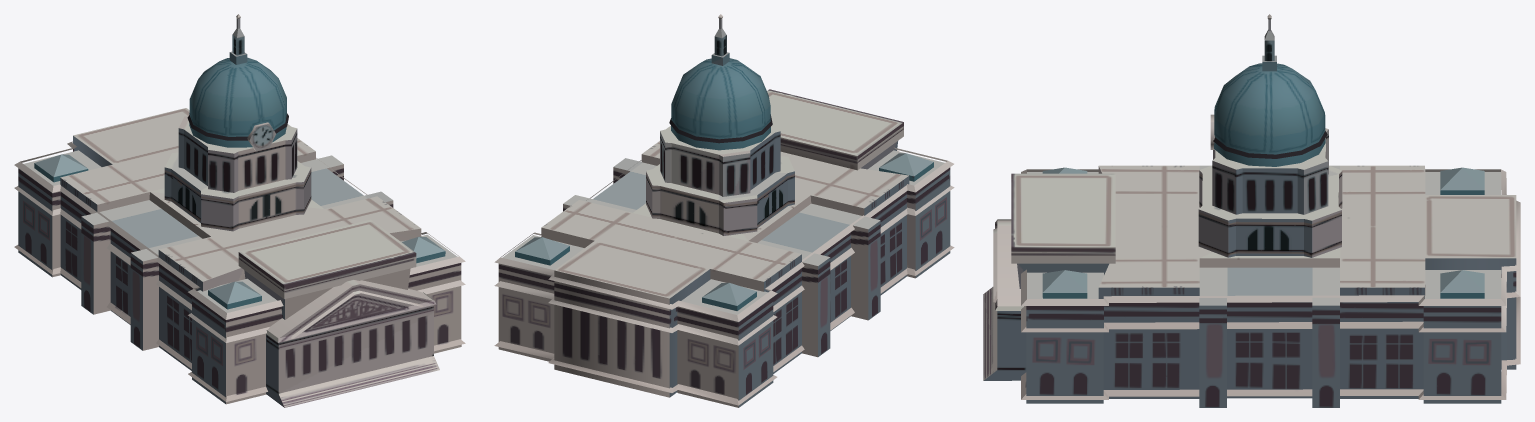
File: councilhouse.FBX
The picture shows the model from 3 angles, left to right: view 1: azimuth 30°, elevation 25°; view 2: azimuth 150°, elevation 25°; view 3: azimuth 270°, elevation 25°; orthographic projection. The views are drawn at different scales.
Parts seen in each view (by area): view 1: top_pillar; view 2: top_pillar; view 3: top_pillar.
Boxes of the visible parts, box(x1,y1,x2,y2) form: top_pillar: box(14, 14, 465, 407); top_pillar: box(494, 14, 954, 407); top_pillar: box(983, 14, 1520, 407).
Size of the model in its own units: 90.4 by 98.07 by 147.
